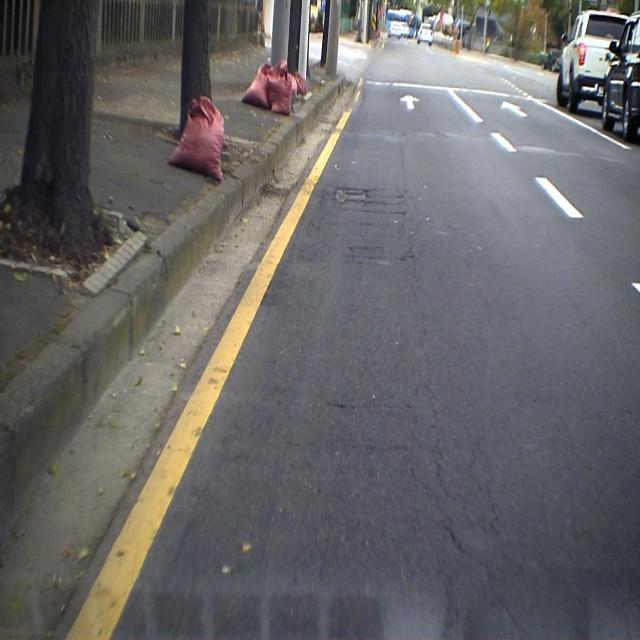pothole: (324, 180, 408, 225)
